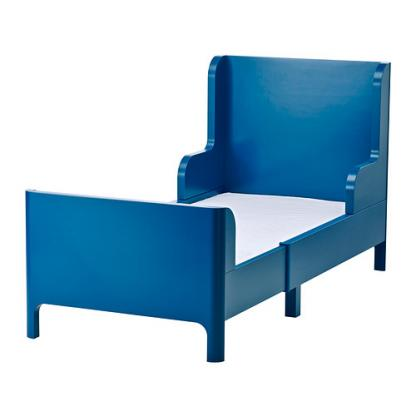Bed: (25, 51, 393, 365)
